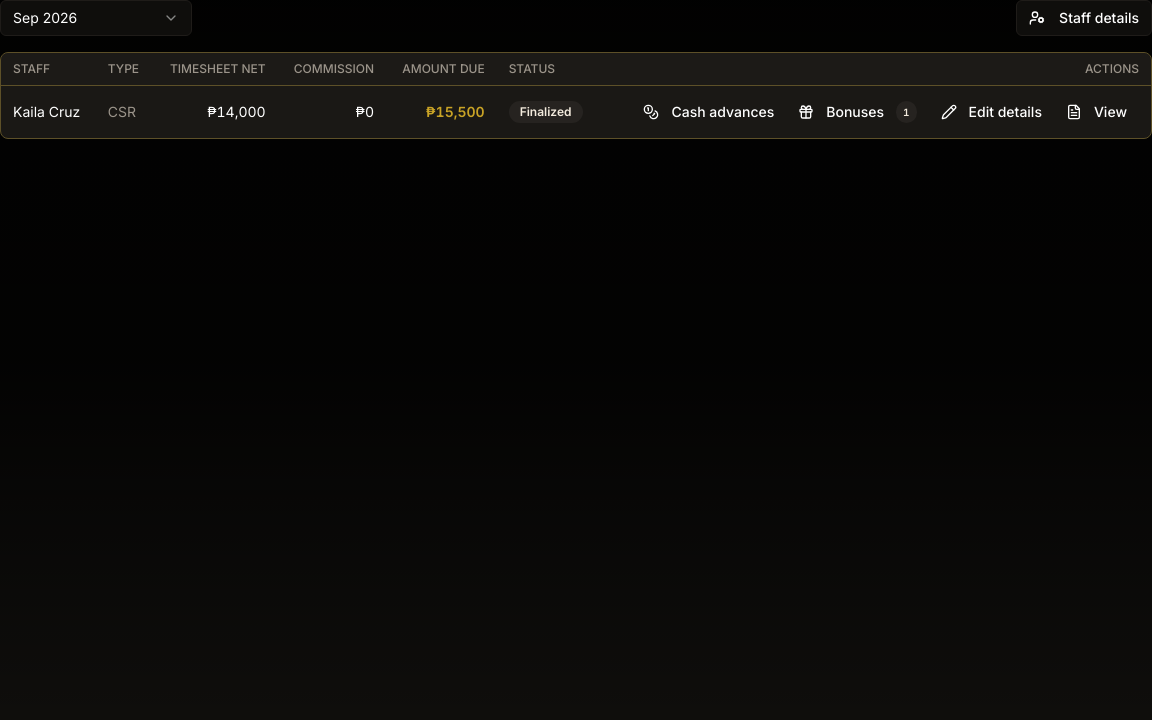
Scenario: Payslips tab — bonuses › a finalized payslip with bonuses is not flagged as changed, and its bonuses are read-only
Earlier steps of the test are not shown.
Click the button with test id "payslip-bonuses-open" at point(857, 112), box 786,94 -> 928,130
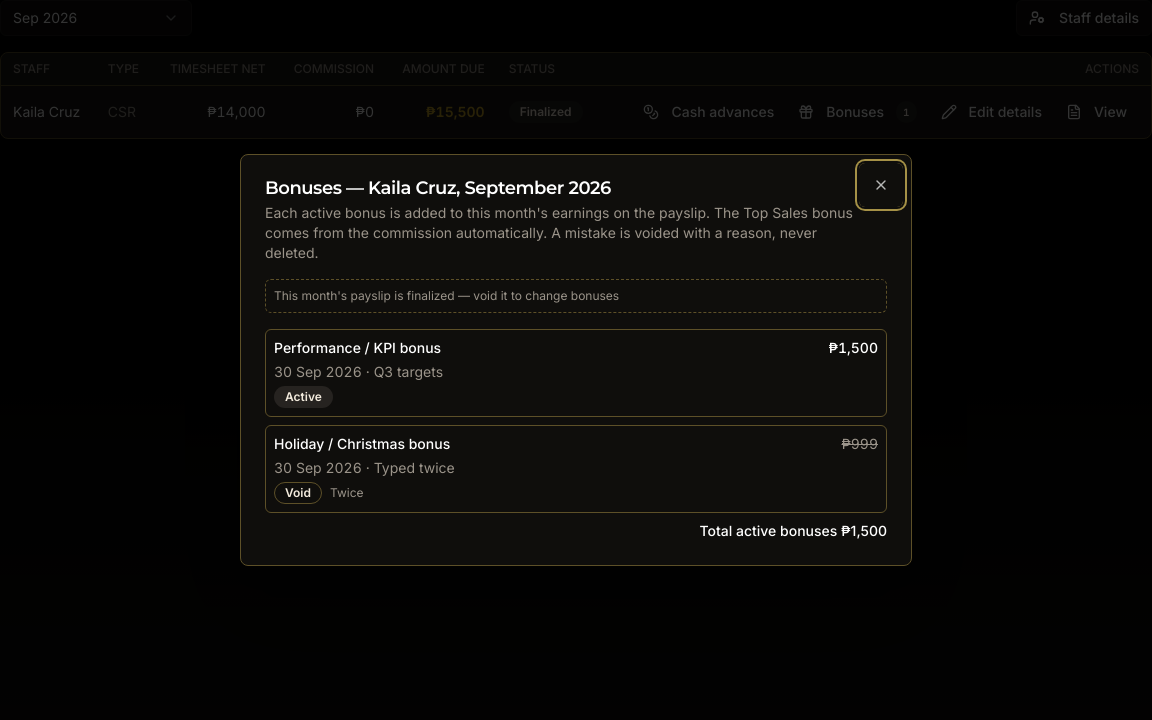
Result: the text with test id "bonuses-locked" reads "This month's payslip is finalized — void it to change bonuses" at 274,288 -> 619,303
